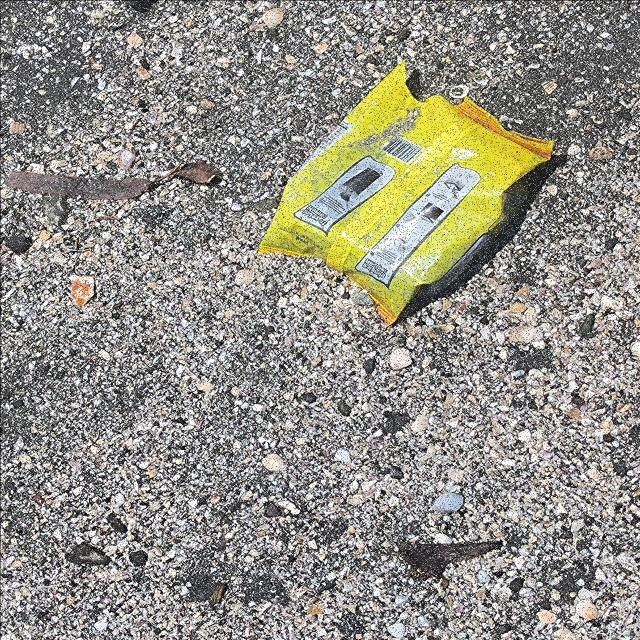plastic_waste: (257, 58, 557, 329)
